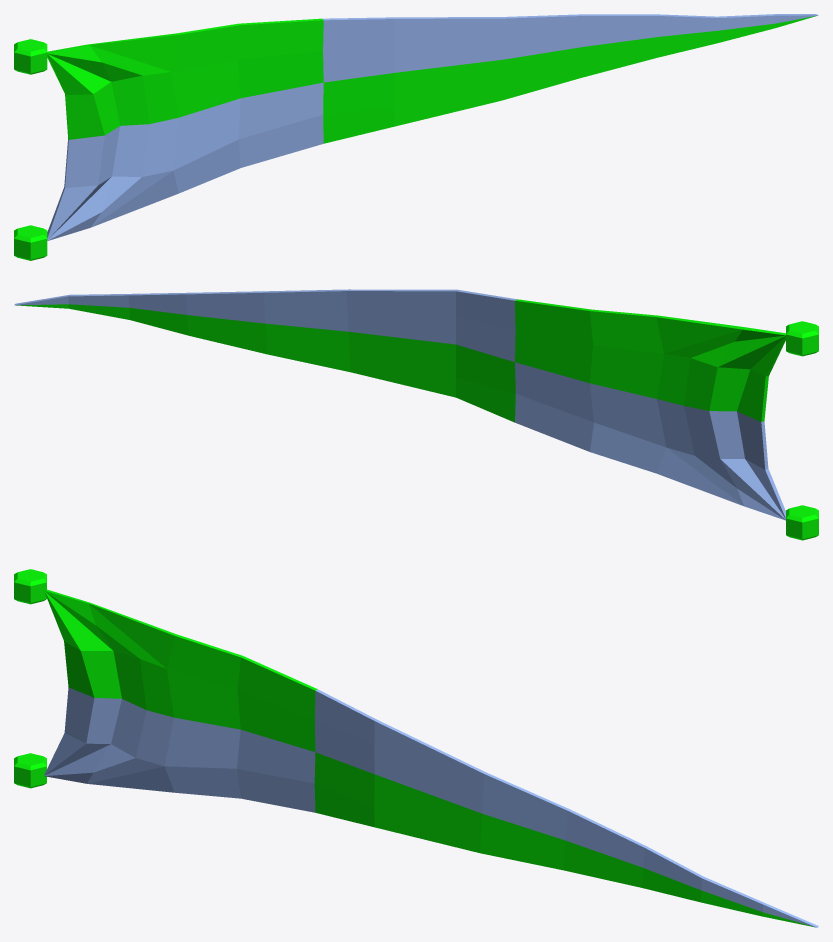
File: SM_Flag_Long_A_Fantasy.fbx
3 views of the same model, one above another, from view 1: azimuth 30°, elevation 25°; view 2: azimuth 150°, elevation 25°; view 3: azimuth 330°, elevation 25° (orthographic).
Parts seen in each view (by area): view 1: flag-long-a-fantasy; view 2: flag-long-a-fantasy; view 3: flag-long-a-fantasy.
Boxes of the visible parts, <box> form: flag-long-a-fantasy: <box>14,14,818,260</box>; flag-long-a-fantasy: <box>14,289,818,540</box>; flag-long-a-fantasy: <box>14,569,818,927</box>.
Size of the model in its own units: 2.17 by 0.5365 by 0.0777.
